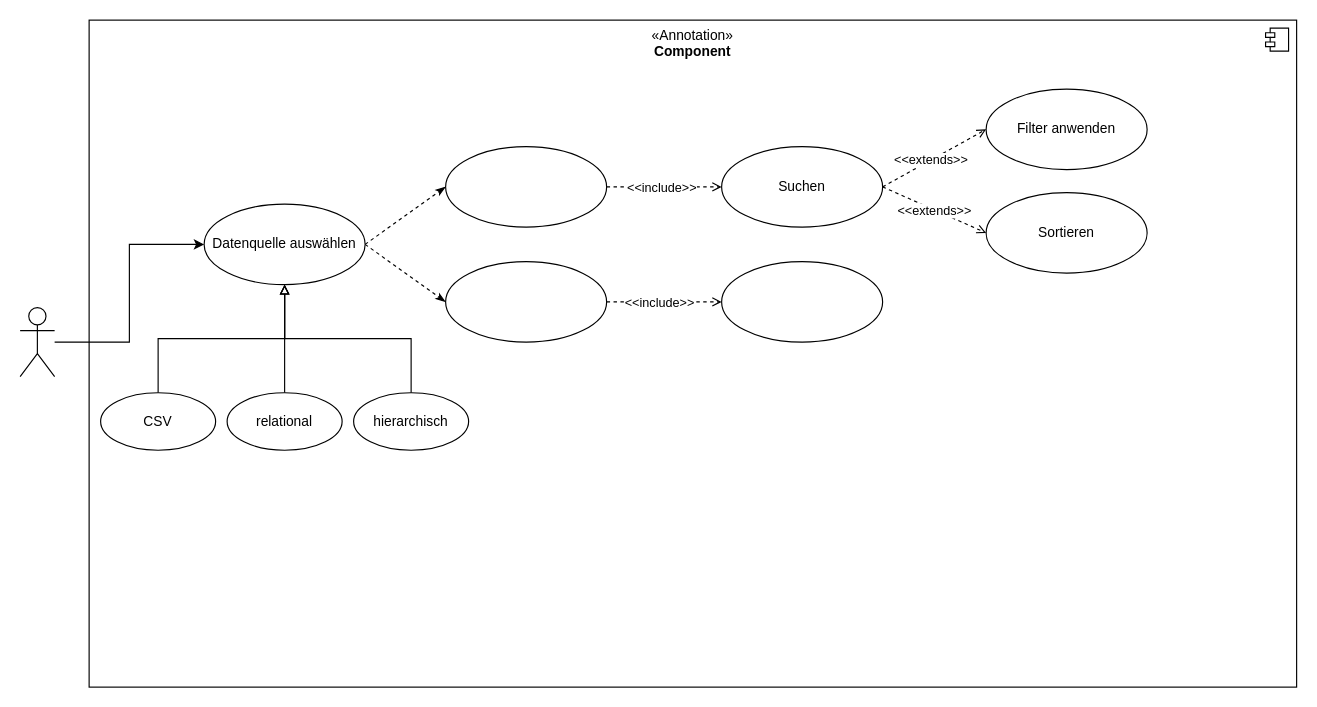
Image size: 1317x707. Some labels were removed from this diagram. Each missing label, with the box of its shape:
Actor: (19, 306, 55, 377)
Zuordnung anzeigen: (444, 145, 607, 227)
Zuordnung bearbeiten: (444, 260, 607, 342)
Zurodnung speichern: (720, 260, 883, 342)
